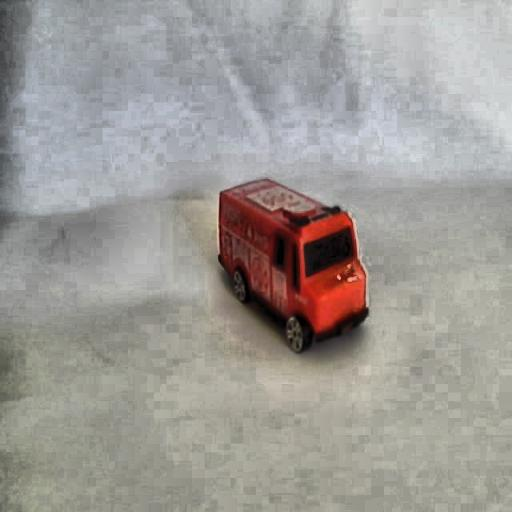fire_truck: (211, 168, 374, 358)
